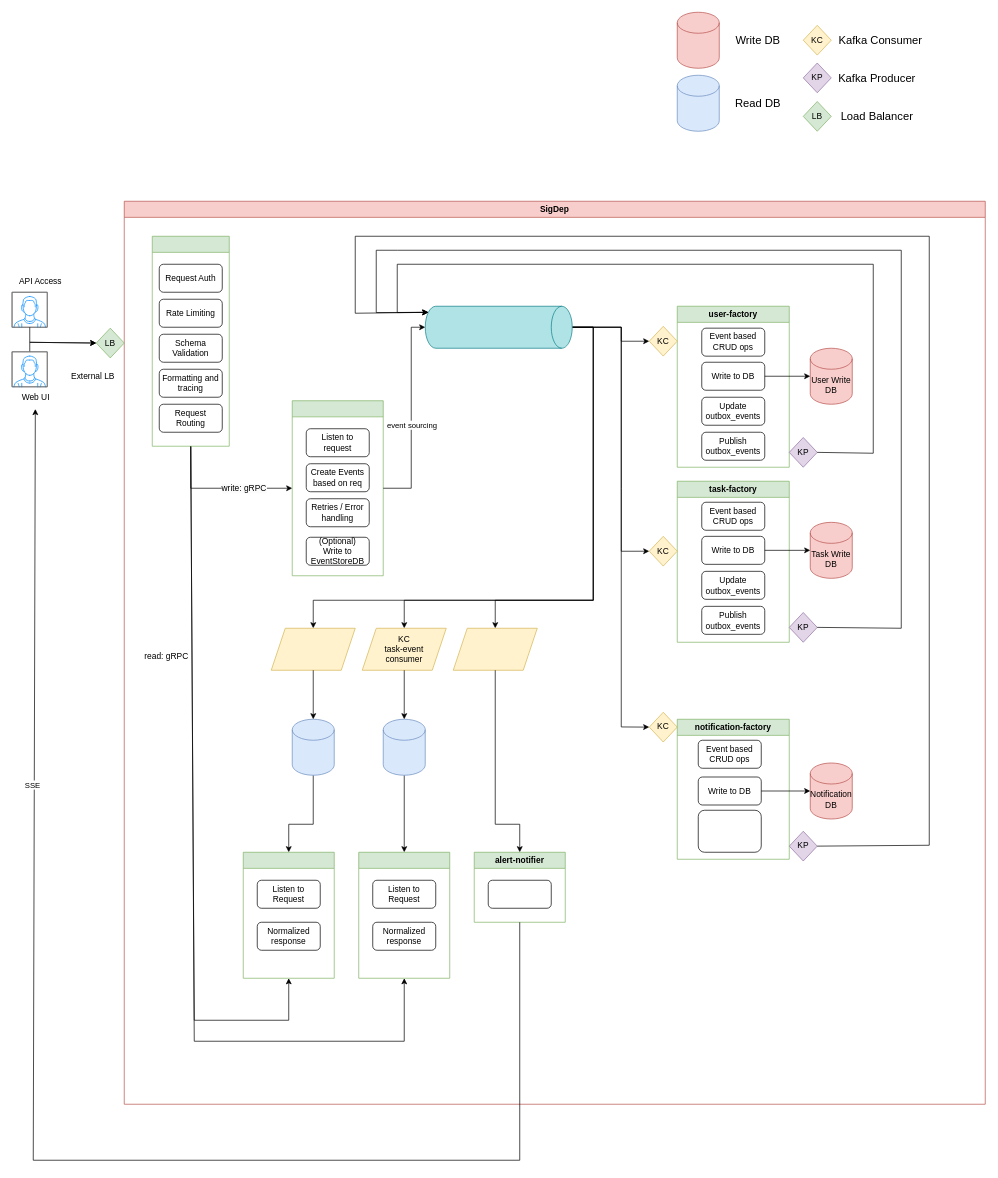
This 998x1178 diagram has some shape labels left out. The shapes that lost their labels are listed below. From the top down, each one's box as (x1, y1, x2, y2) in pixels, then its label:
(152, 236, 229, 446): gateway-proxy
(425, 306, 572, 348): Kafka topics
(292, 400, 383, 576): dispatch-manager
(271, 628, 355, 670): KC user-event consumer
(453, 628, 537, 670): KC notification-event consumer
(292, 719, 334, 775): User Read DB
(383, 719, 425, 775): Task Read DB
(698, 810, 761, 852): Publish scheduler based events
(488, 880, 551, 908): Send Push Notification
(243, 852, 334, 978): user-query-handler
(358, 852, 450, 978): task-query-handler
